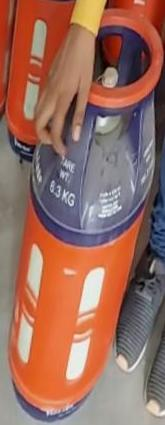cylinder: (1, 1, 165, 425)
